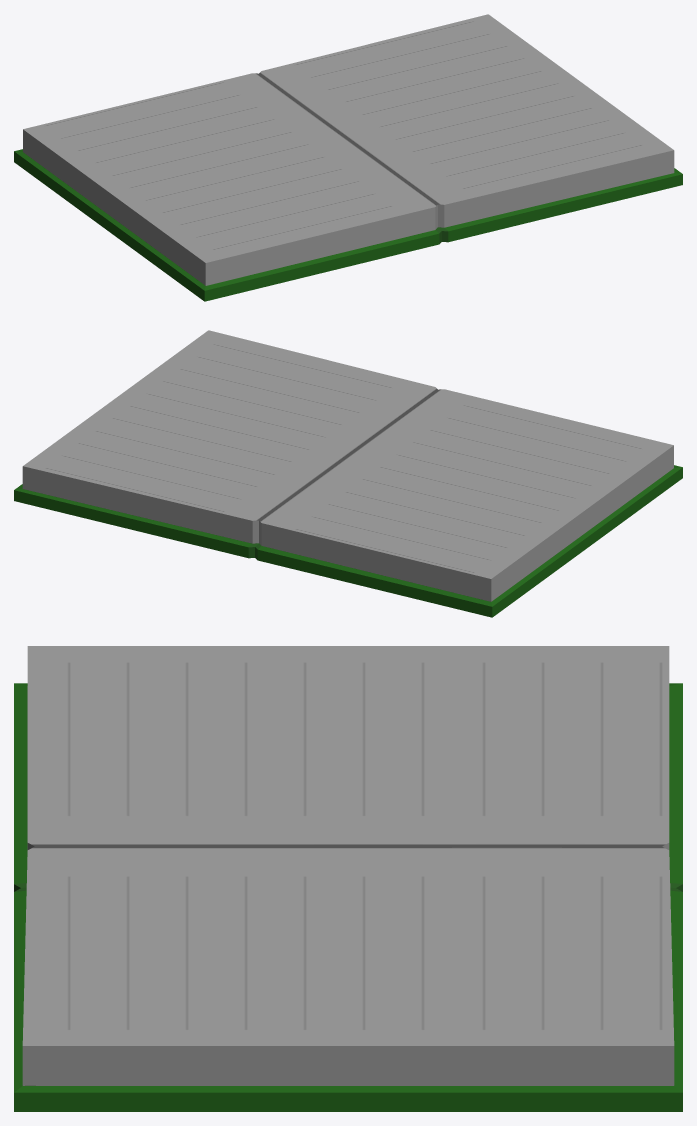
File: note.obj
3 renders of one model, top to bottom at view 1: azimuth 30°, elevation 25°; view 2: azimuth 150°, elevation 25°; view 3: azimuth 270°, elevation 25°, orthographic. The views are drawn at different scales.
Visible parts, largest first — view 1: 立方体; view 2: 立方体; view 3: 立方体.
Boxes of the visible parts, x1,y1,x2,y2 form: 立方体: [14, 14, 682, 301]; 立方体: [14, 330, 682, 617]; 立方体: [14, 646, 682, 1111].
Size of the model in its own units: 2.9 by 0.2 by 2.
Materials: 1 (1 with a texture image).
